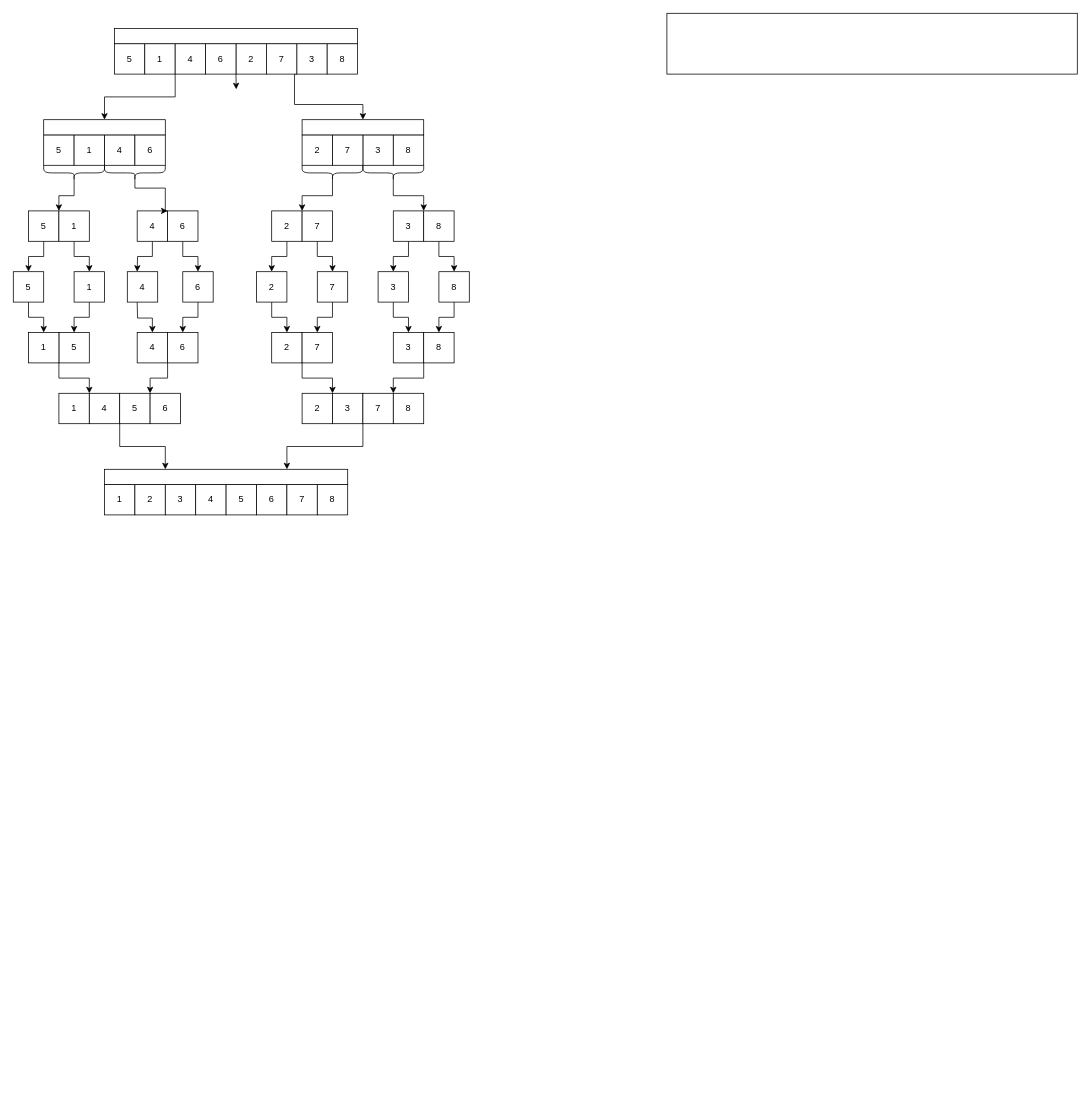
This 1091x1098 diagram has some shape labels left out. Each missing label, with the box of its shape:
half_1: (43, 119, 165, 135)
half_2: (301, 119, 424, 135)
input_list: (114, 28, 358, 44)
output_list: (104, 469, 348, 484)
